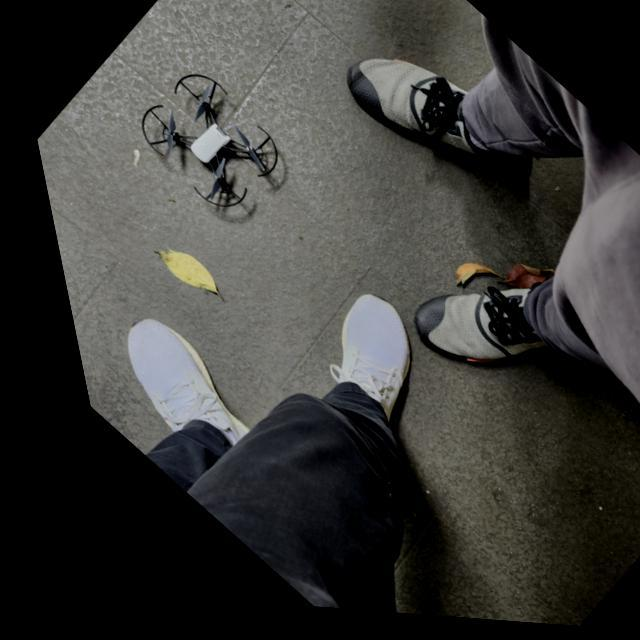drone: (137, 80, 272, 213)
